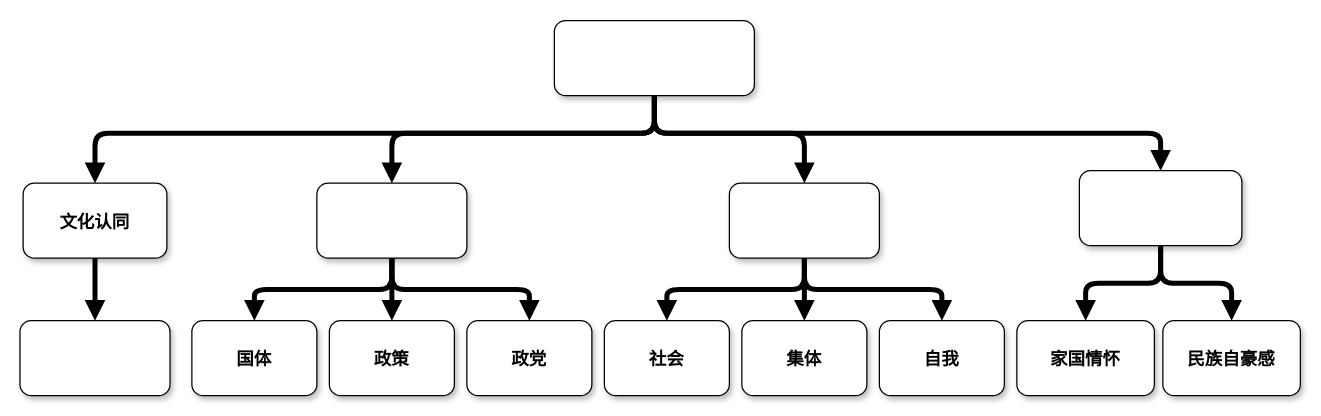
This 1321x416 diagram has some shape labels left out. Here are the shapes that lost their labels. From the top down, the centre of each, then its label:
the point at 655,59: 国家认同感
the point at 392,222: 政治认同
the point at 805,222: 身份认同
the point at 1161,209: 情感认同
the point at 96,359: 文化自信
